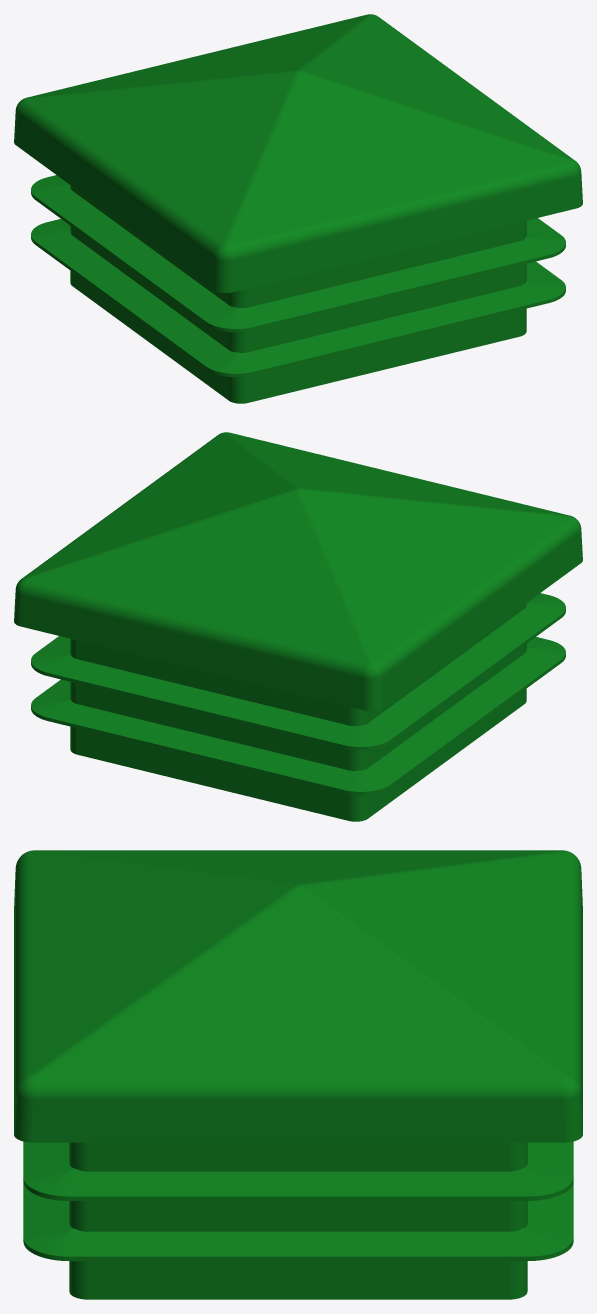
File: 60x60_inner_pyramid.obj
3 renders of one model, top to bottom at view 1: azimuth 30°, elevation 25°; view 2: azimuth 150°, elevation 25°; view 3: azimuth 270°, elevation 25°, orthographic. The views are drawn at different scales.
Visible parts, largest first — view 1: 60x60_inner_pyramid; view 2: 60x60_inner_pyramid; view 3: 60x60_inner_pyramid.
Boxes of the visible parts, bbox=[...] form: 60x60_inner_pyramid: bbox=[14, 14, 582, 403]; 60x60_inner_pyramid: bbox=[14, 432, 582, 821]; 60x60_inner_pyramid: bbox=[14, 850, 582, 1299].
Size of the model in its own units: 60 by 36.87 by 60.
